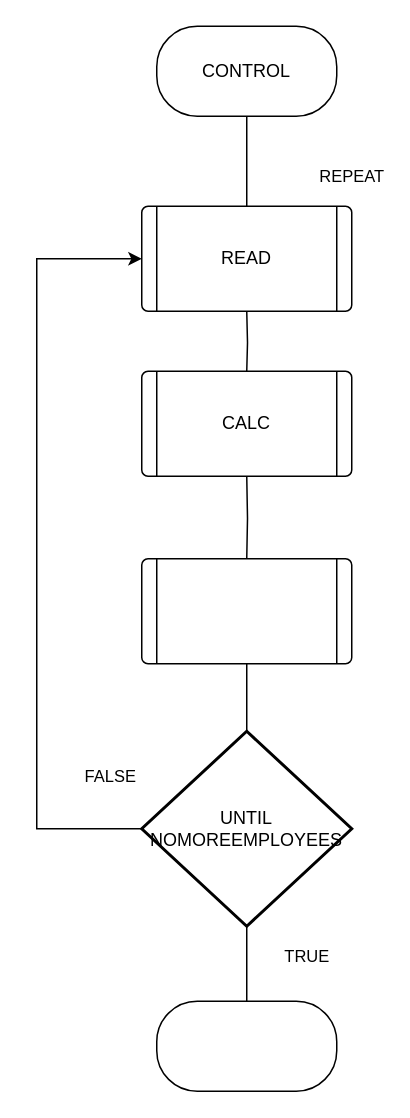
This 410x1118 diagram has some shape labels left out. The centre of each missing label's shape, as x and y in pixels:
END: (246,1045)
PRINT: (246,610)
